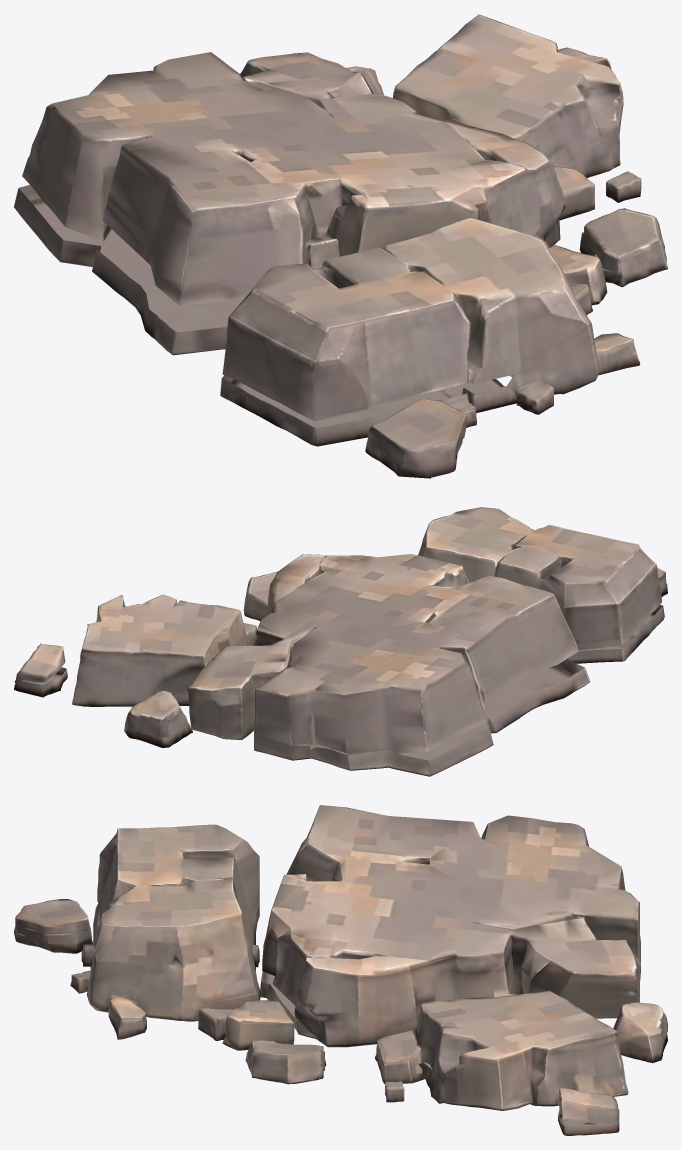
Rendered from rubble_small.glb.
3 views of the same model, one above another, from view 1: azimuth 30°, elevation 25°; view 2: azimuth 150°, elevation 25°; view 3: azimuth 270°, elevation 25° (orthographic). The views are drawn at different scales.
Parts seen in each view (by area): view 1: tripo_node_807b2802-7a21-400b-9cdb-ee673dee8ee5; view 2: tripo_node_807b2802-7a21-400b-9cdb-ee673dee8ee5; view 3: tripo_node_807b2802-7a21-400b-9cdb-ee673dee8ee5.
Part boxes in pixels (box(x1,y1,x2,y2)): tripo_node_807b2802-7a21-400b-9cdb-ee673dee8ee5: box(14, 14, 667, 478); tripo_node_807b2802-7a21-400b-9cdb-ee673dee8ee5: box(14, 507, 667, 776); tripo_node_807b2802-7a21-400b-9cdb-ee673dee8ee5: box(14, 805, 667, 1135).
Bounding box in the file's own units: 0.8591 × 0.1898 × 1.
Materials: 1 (1 with a texture image).
